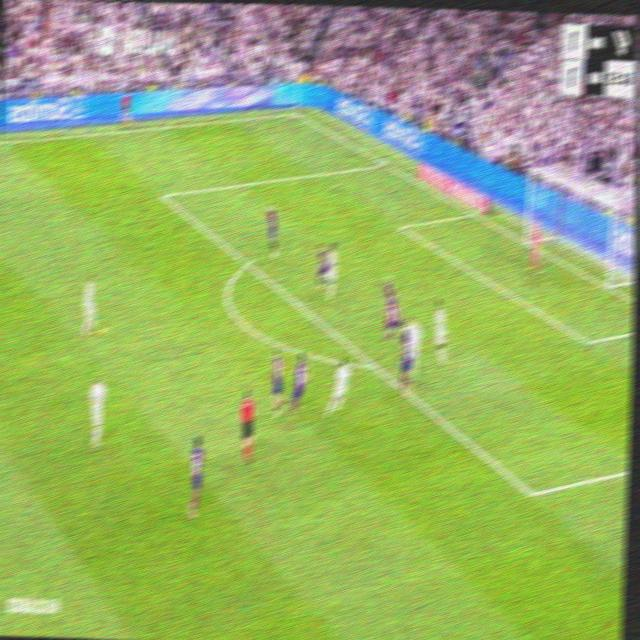bigarea_bottom_inner: (522, 477, 539, 509)
bigarea_top_inner: (158, 184, 169, 204)
bigarea_top_outter: (379, 154, 391, 170)
bottom_arc_area_intersection: (366, 353, 379, 375)
corner: (290, 105, 302, 119)
smallarea_bottom_inner: (581, 330, 593, 353)
smallarea_top_inner: (398, 218, 406, 234)
top_arc_area_intersection: (241, 253, 253, 272)
